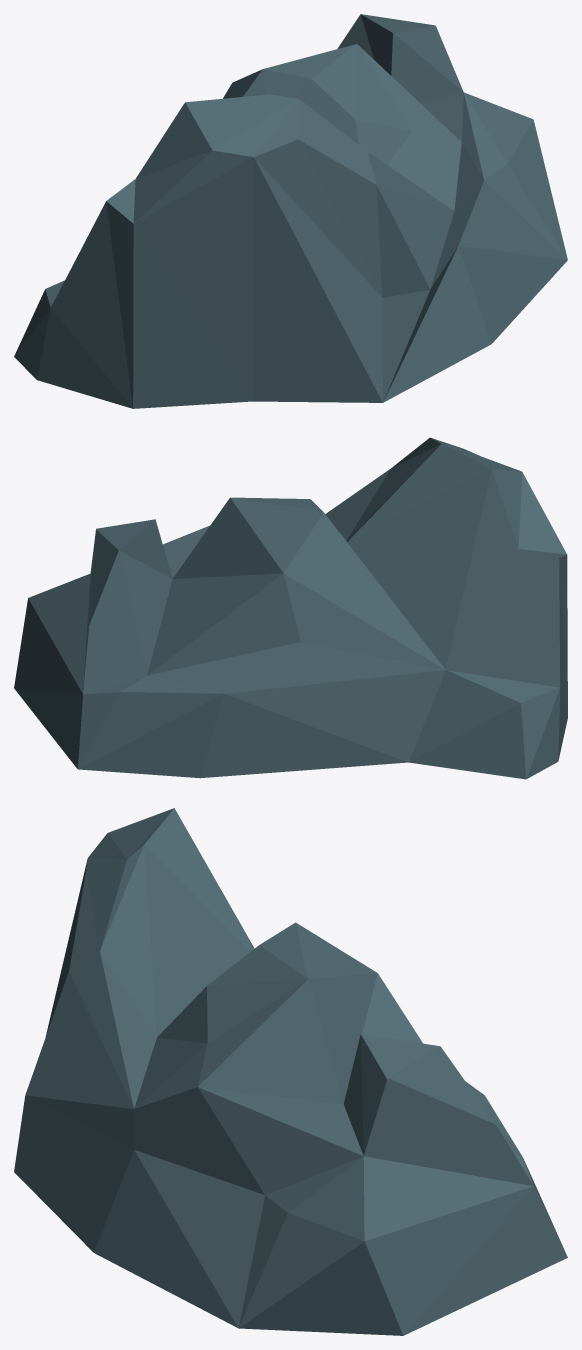
The model's file is stone2.fbx.
3 views of the same model, one above another, from view 1: azimuth 30°, elevation 25°; view 2: azimuth 150°, elevation 25°; view 3: azimuth 270°, elevation 25° (orthographic). The views are drawn at different scales.
Parts seen in each view (by area): view 1: Box015; view 2: Box015; view 3: Box015.
Boxes of the visible parts, left/top/right/bottom form: Box015: left=14, top=14, right=567, bottom=408; Box015: left=14, top=437, right=567, bottom=779; Box015: left=14, top=808, right=567, bottom=1335.
Size of the model in its own units: 8.23 by 4.03 by 6.67.
